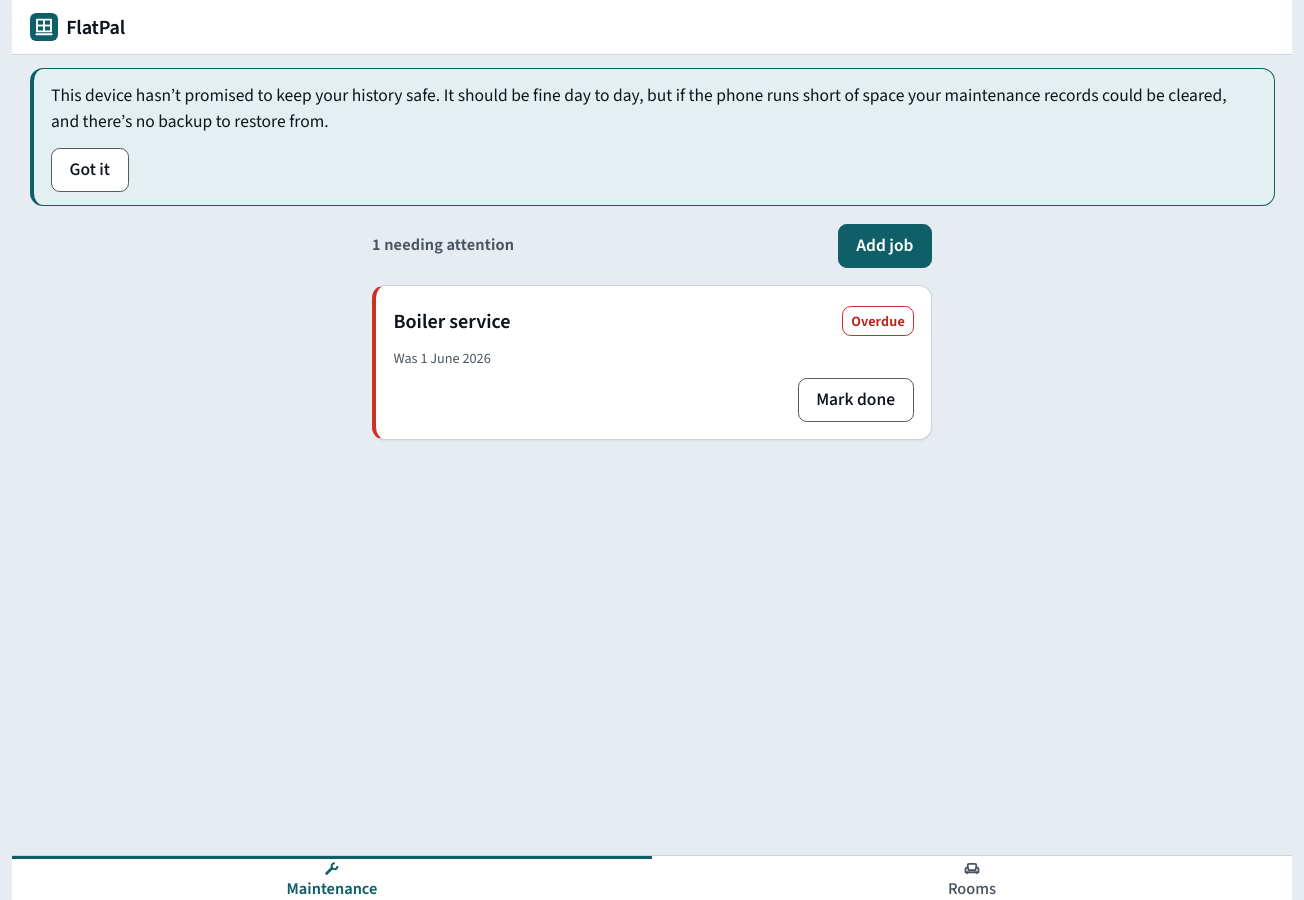
Test: the areas are reachable from every screen (FR-001) › is still there in the add-a-job form
The image size is (1304, 900).
Click the button "Add job".
click(885, 246)  # box [838, 224, 932, 268]
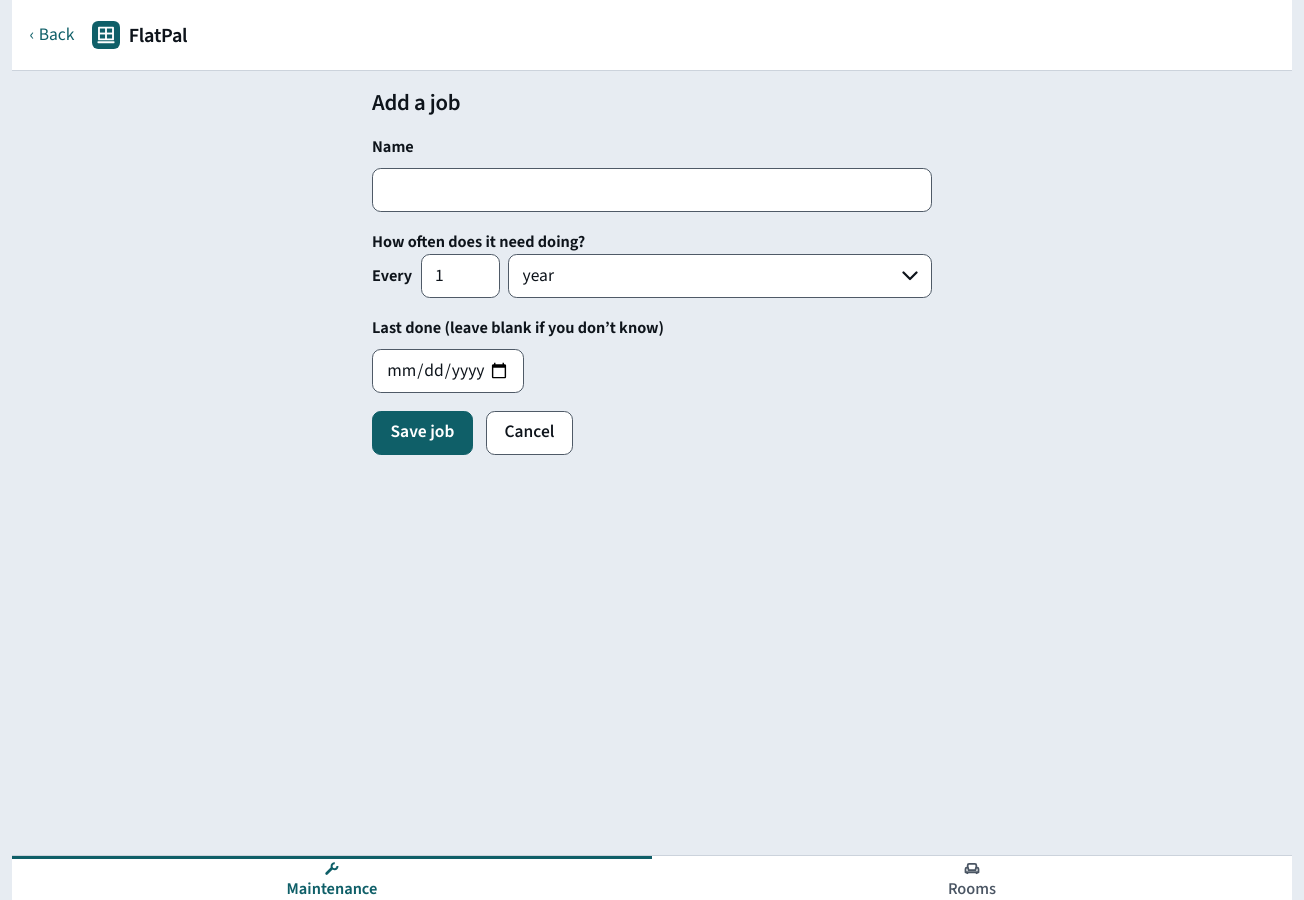
Check: the button "Rooms" is shown, box [652, 856, 1292, 899]
Check: the heading "Add a job" is shown, box [372, 87, 460, 119]
